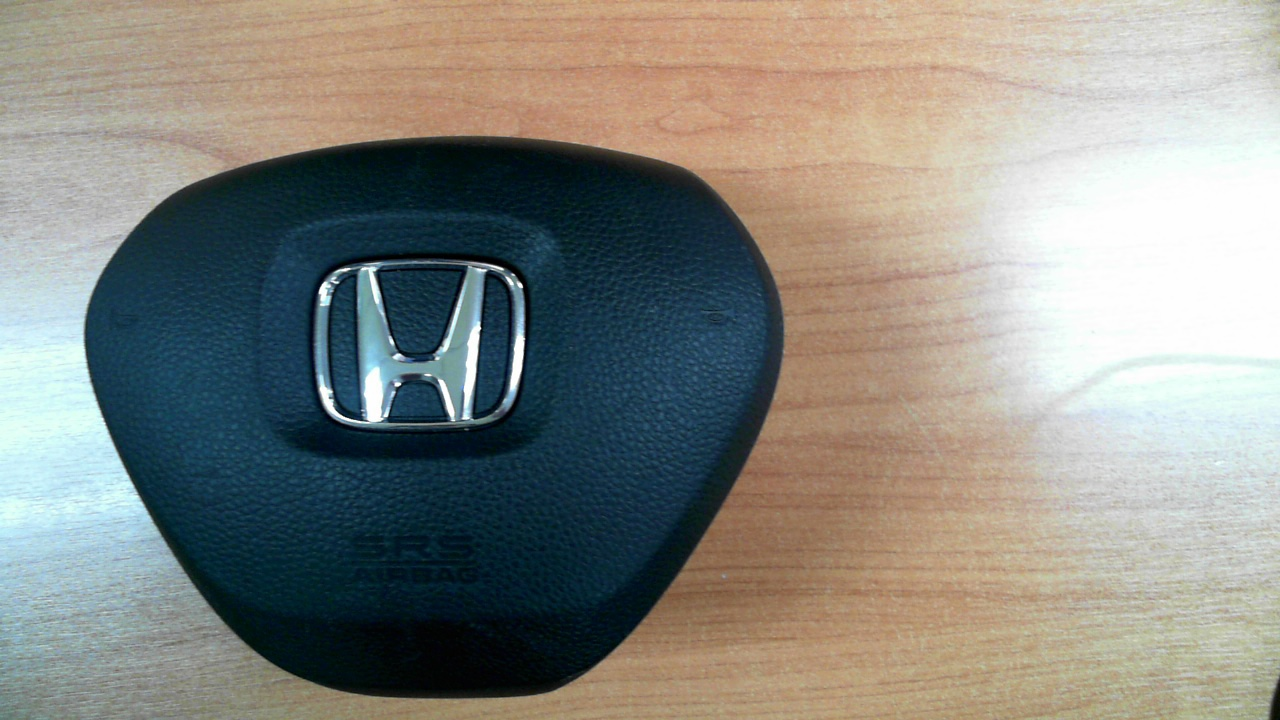Airbag: (83, 135, 784, 699)
Honda: (314, 260, 526, 429)
